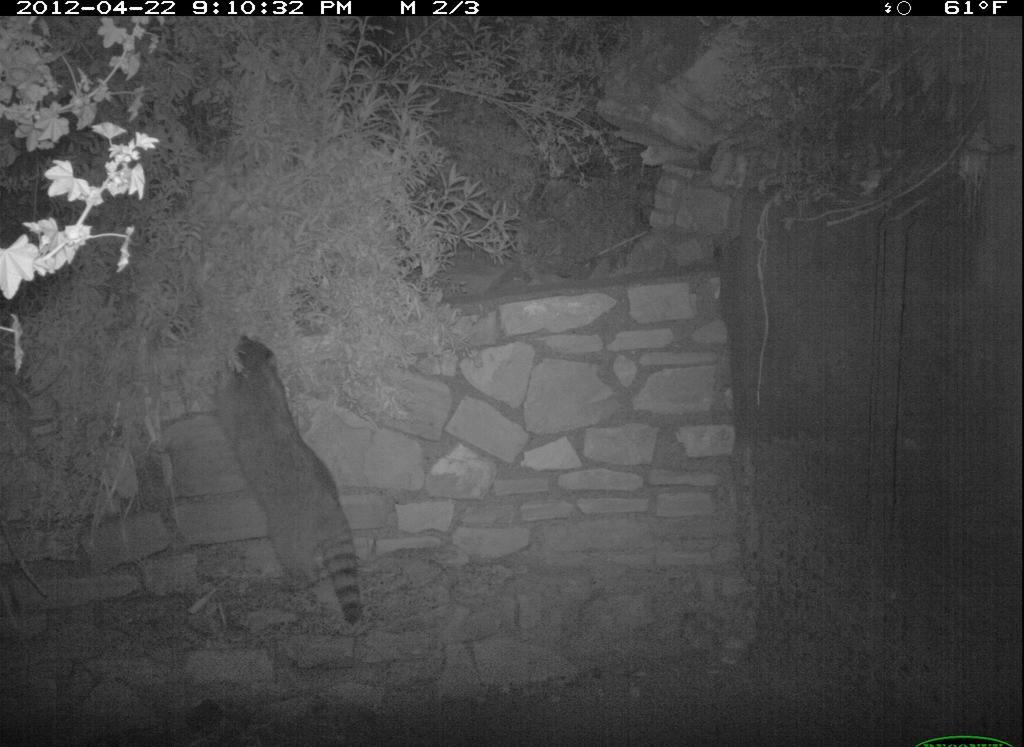raccoon: (201, 329, 373, 633)
